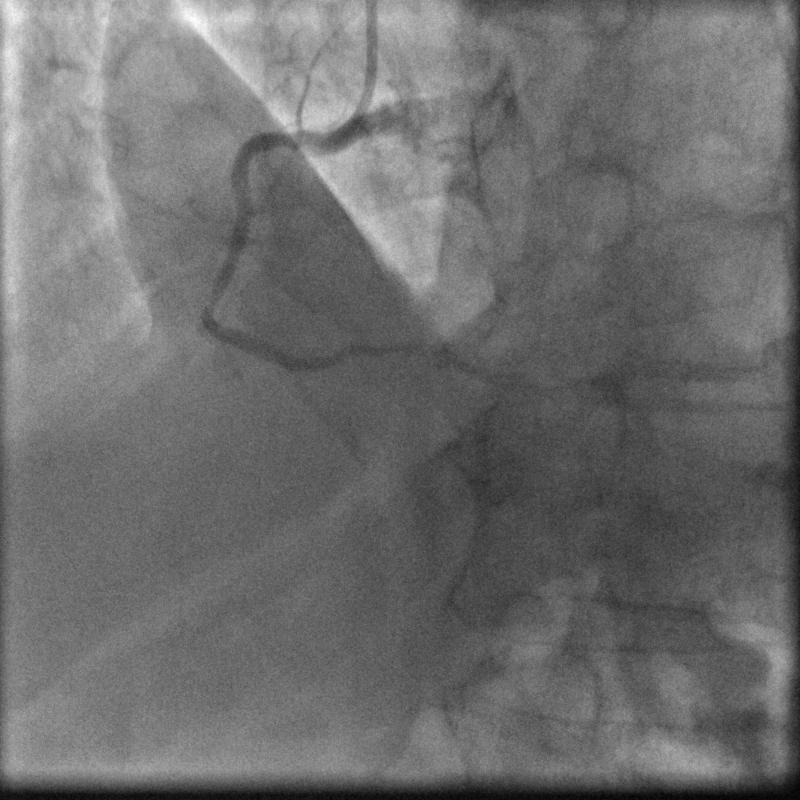Stenosis: (202, 289, 221, 316)
